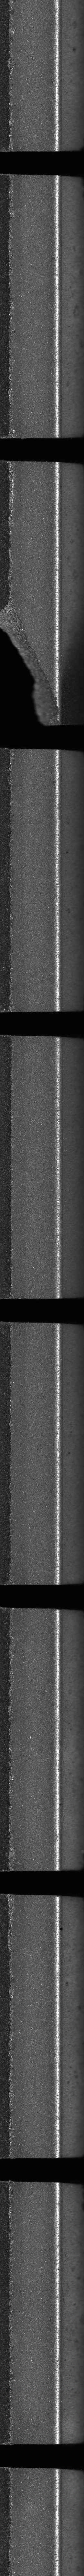Chip: (0, 593, 59, 726)
